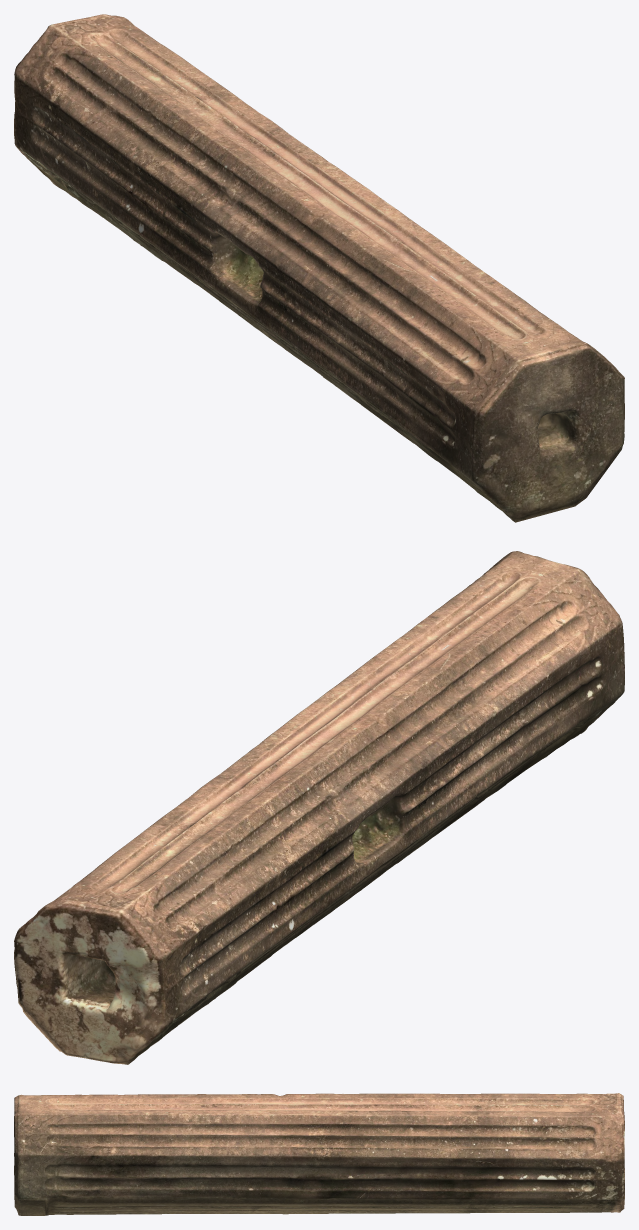
File: 24_MysonSanctuaryB_Trucot_final.glb
3 renders of one model, top to bottom at view 1: azimuth 30°, elevation 25°; view 2: azimuth 150°, elevation 25°; view 3: azimuth 270°, elevation 25°, orthographic. The views are drawn at different scales.
Bounding box in the file's own units: 0.4855 × 0.4929 × 2.58.
Materials: 1 (1 with a texture image).
